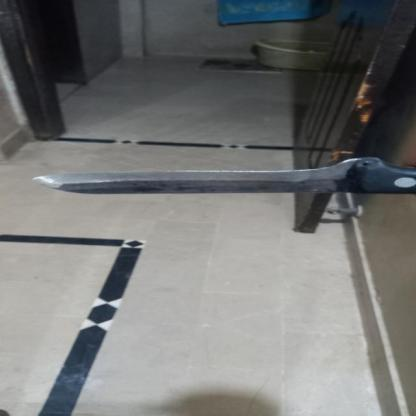Knife: (34, 156, 416, 209)
